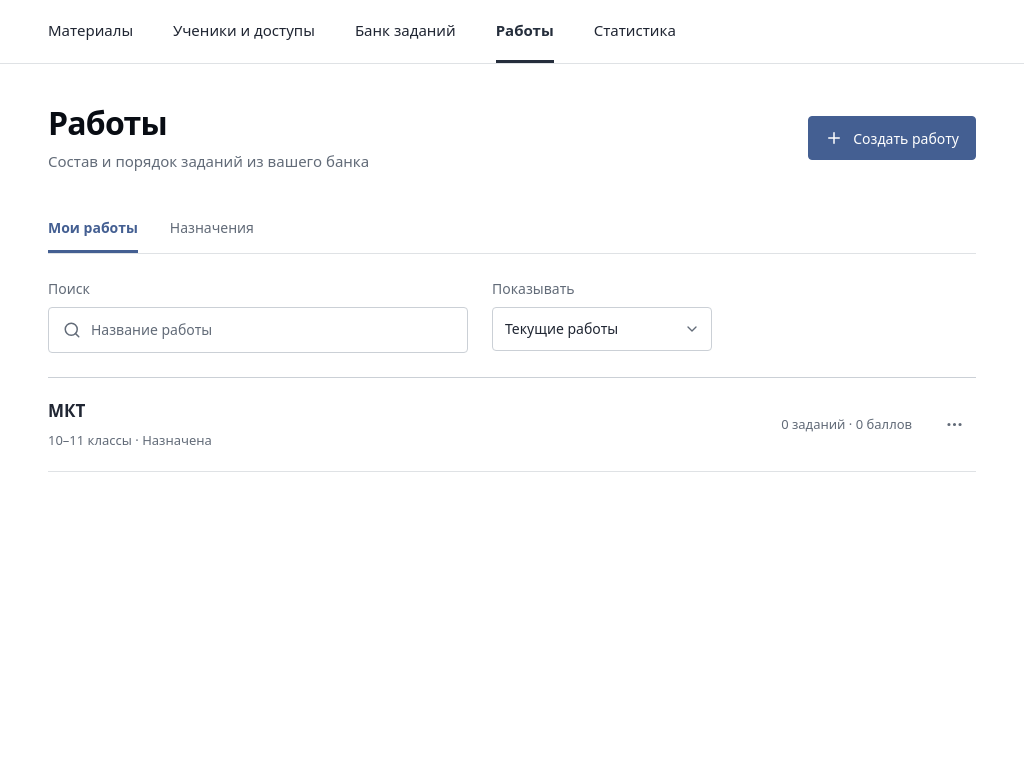
Test case: never offers deletion for an assigned work but keeps archiving and copying
The width and height of the screenshot is (1024, 768).
Click the button named "Действия с работой: МКТ" at (954, 424), box [932,402,976,446]
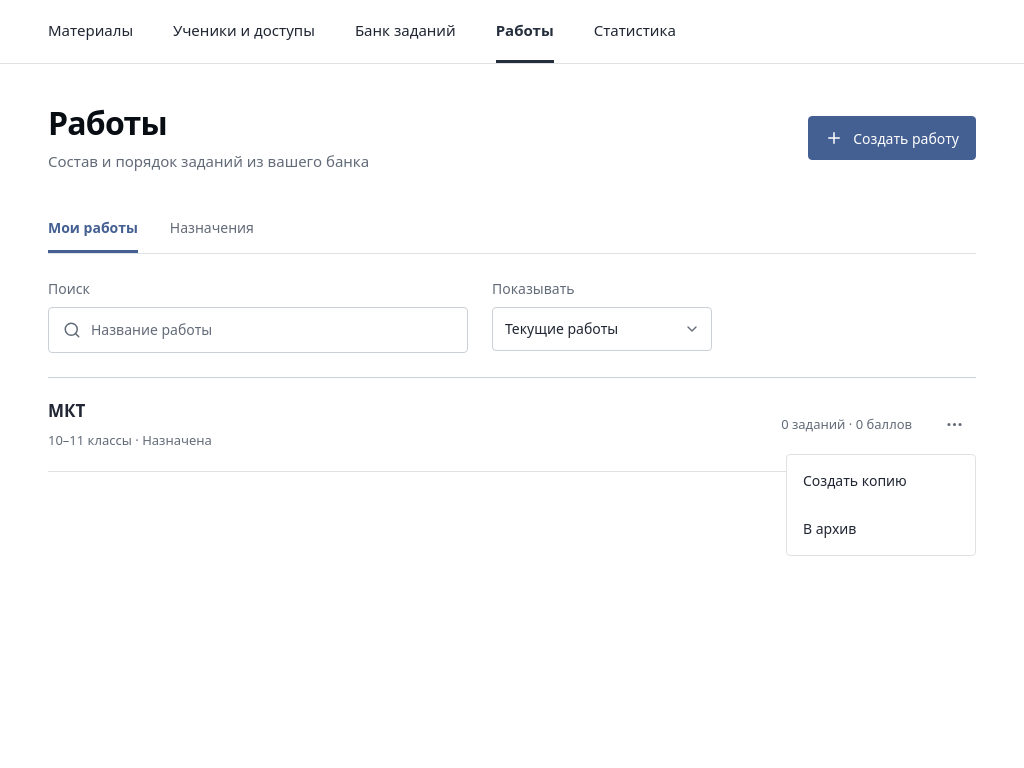
Now the menu item "В архив" is shown, box [803,519,856,538]
Now the menu item "Создать копию" is shown, box [803,471,907,490]
